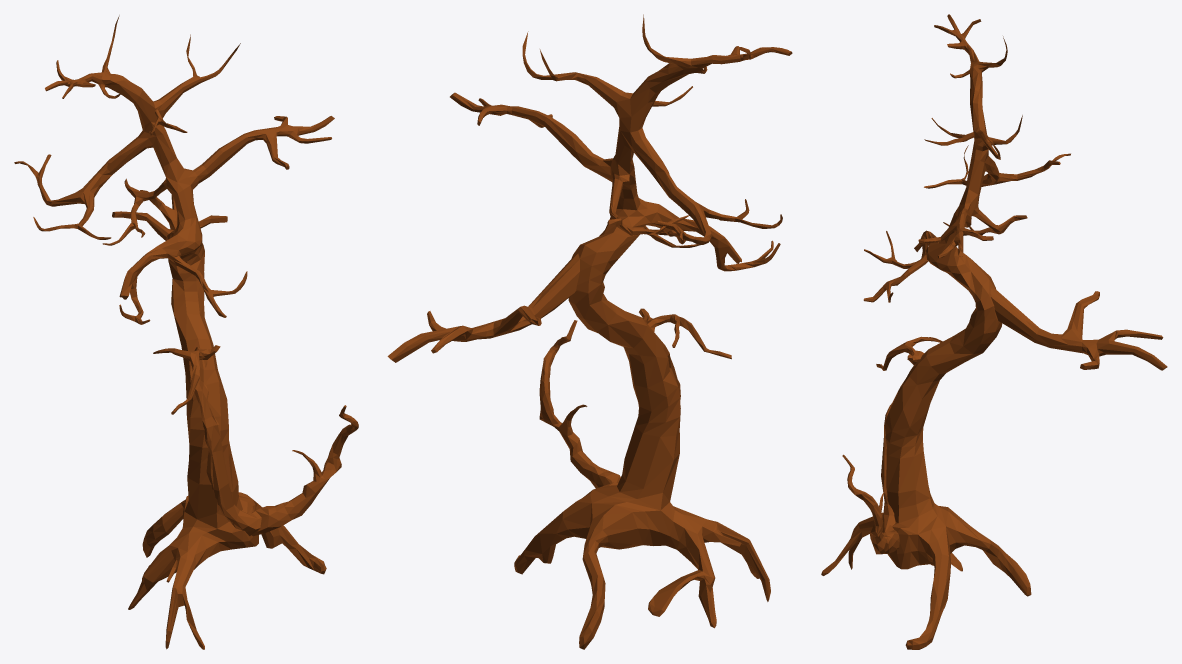
Rendered from Vegetation_Tree_Trunk_Ancient_Gnarled_Very_Large_01.FBX.
3 views of the same model, side by side, from view 1: azimuth 30°, elevation 25°; view 2: azimuth 150°, elevation 25°; view 3: azimuth 270°, elevation 25° (orthographic). The views are drawn at different scales.
Parts seen in each view (by area): view 1: Vegetation_Tree_Trunk_Ancient_Gnarled_Very_Large_01; view 2: Vegetation_Tree_Trunk_Ancient_Gnarled_Very_Large_01; view 3: Vegetation_Tree_Trunk_Ancient_Gnarled_Very_Large_01.
Boxes of the visible parts, x1,y1,x2,y2 form: Vegetation_Tree_Trunk_Ancient_Gnarled_Very_Large_01: (14, 15, 358, 649); Vegetation_Tree_Trunk_Ancient_Gnarled_Very_Large_01: (387, 14, 792, 649); Vegetation_Tree_Trunk_Ancient_Gnarled_Very_Large_01: (821, 14, 1167, 649).
Bounding box in the file's own units: 10766 × 19741 × 11283.
